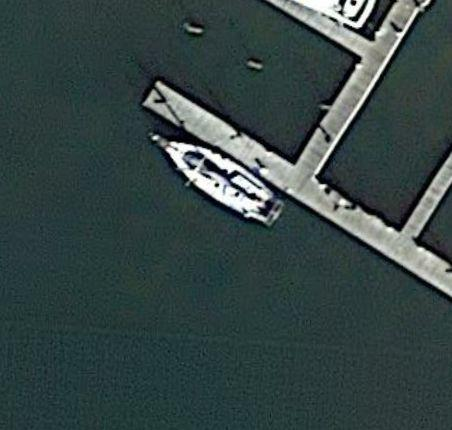Ships: (149, 128, 280, 244)
